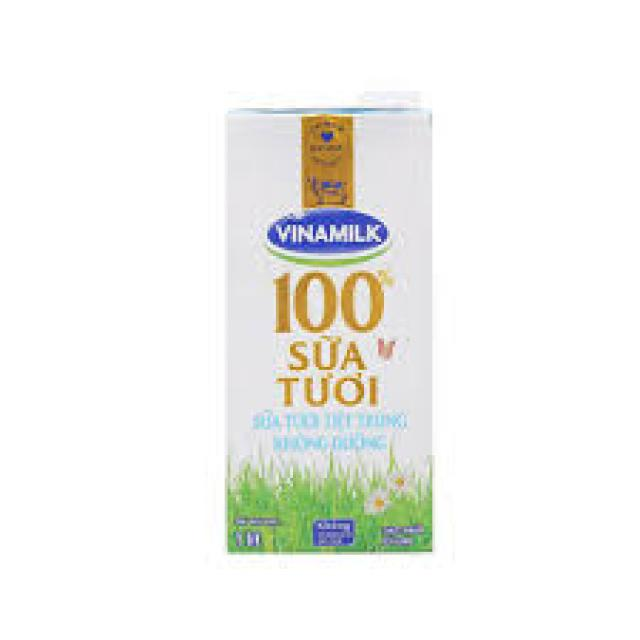non_white_jug: (189, 85, 462, 566)
